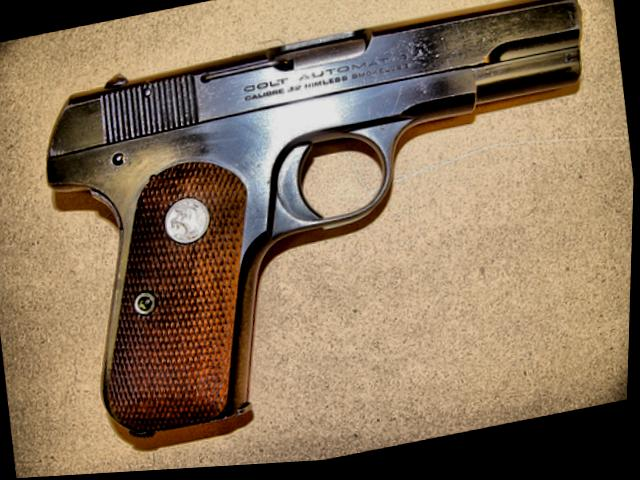pistol: (27, 0, 626, 450)
